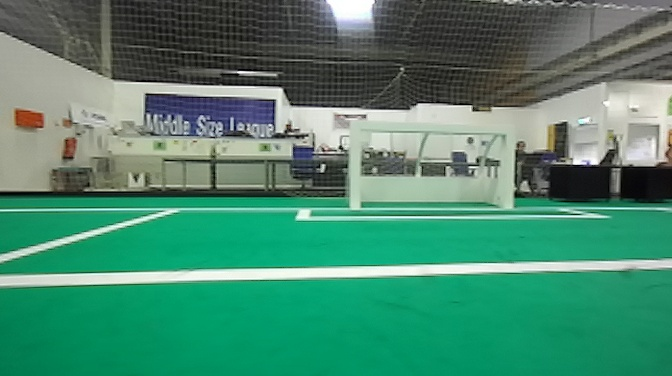goalpost: (345, 116, 364, 210), (495, 119, 511, 214)
